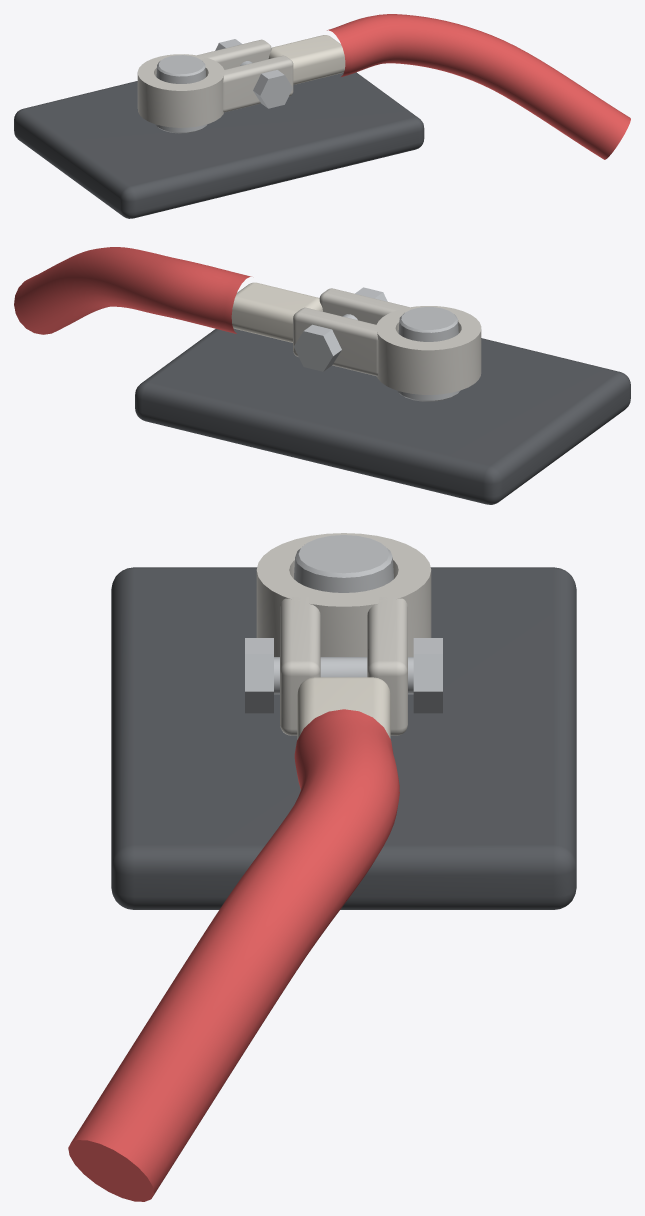
File: battery_terminal.glb
3 views of the same model, one above another, from view 1: azimuth 30°, elevation 25°; view 2: azimuth 150°, elevation 25°; view 3: azimuth 270°, elevation 25° (orthographic). The views are drawn at different scales.
Parts seen in each view (by area): view 1: battery_lid, cable, clamp, cable_lug, post, bolt; view 2: battery_lid, cable, clamp, cable_lug, post, nut; view 3: battery_lid, cable, clamp, post, cable_lug, bolt, nut.
Boxes of the visible parts, left/top/right/bottom form: battery_lid: left=14, top=72, right=424, bottom=218; cable: left=327, top=14, right=630, bottom=159; clamp: left=137, top=39, right=293, bottom=127; cable_lug: left=268, top=35, right=345, bottom=84; post: left=155, top=55, right=207, bottom=133; bolt: left=240, top=61, right=292, bottom=108; battery_lid: left=135, top=328, right=630, bottom=504; cable: left=14, top=247, right=251, bottom=334; clamp: left=293, top=288, right=481, bottom=394; cable_lug: left=231, top=282, right=322, bottom=342; post: left=397, top=307, right=459, bottom=401; nut: left=293, top=324, right=341, bottom=371; battery_lid: left=111, top=567, right=576, bottom=909; cable: left=68, top=709, right=399, bottom=1201; clamp: left=256, top=533, right=431, bottom=735; post: left=294, top=535, right=393, bottom=592; cable_lug: left=297, top=677, right=390, bottom=739; bolt: left=245, top=638, right=413, bottom=713; nut: left=413, top=638, right=442, bottom=713.
Size of the model in its own units: 201 by 54.12 by 87.38.
